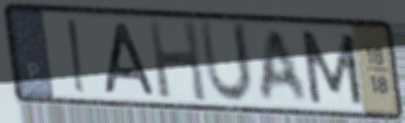A: (101, 19, 160, 98), (258, 27, 312, 104)
H: (144, 17, 210, 106)
I: (64, 16, 90, 97)
M: (296, 27, 367, 108)
U: (196, 18, 256, 107)
